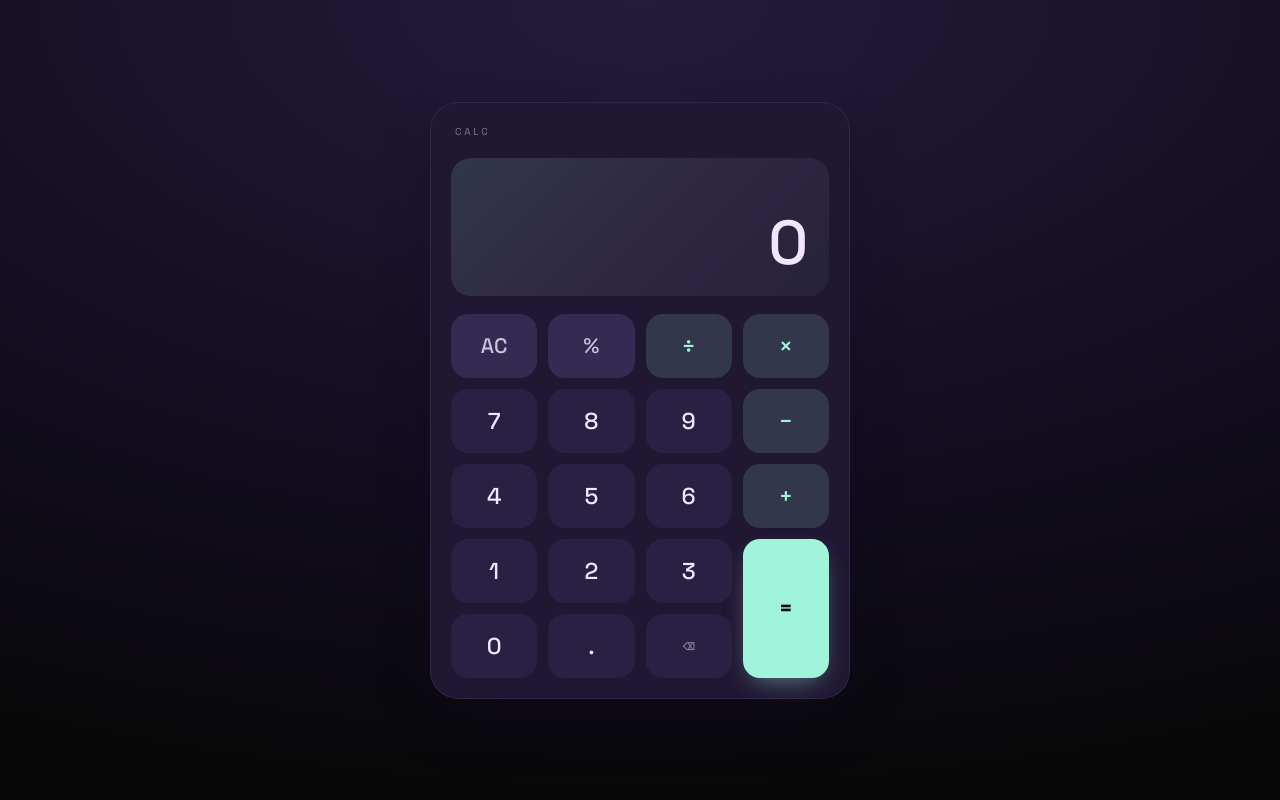
Test: digit entry, backspace, and clear › AC resets back to 0
Click the button "5" at (591, 496), box [548,464,635,528]
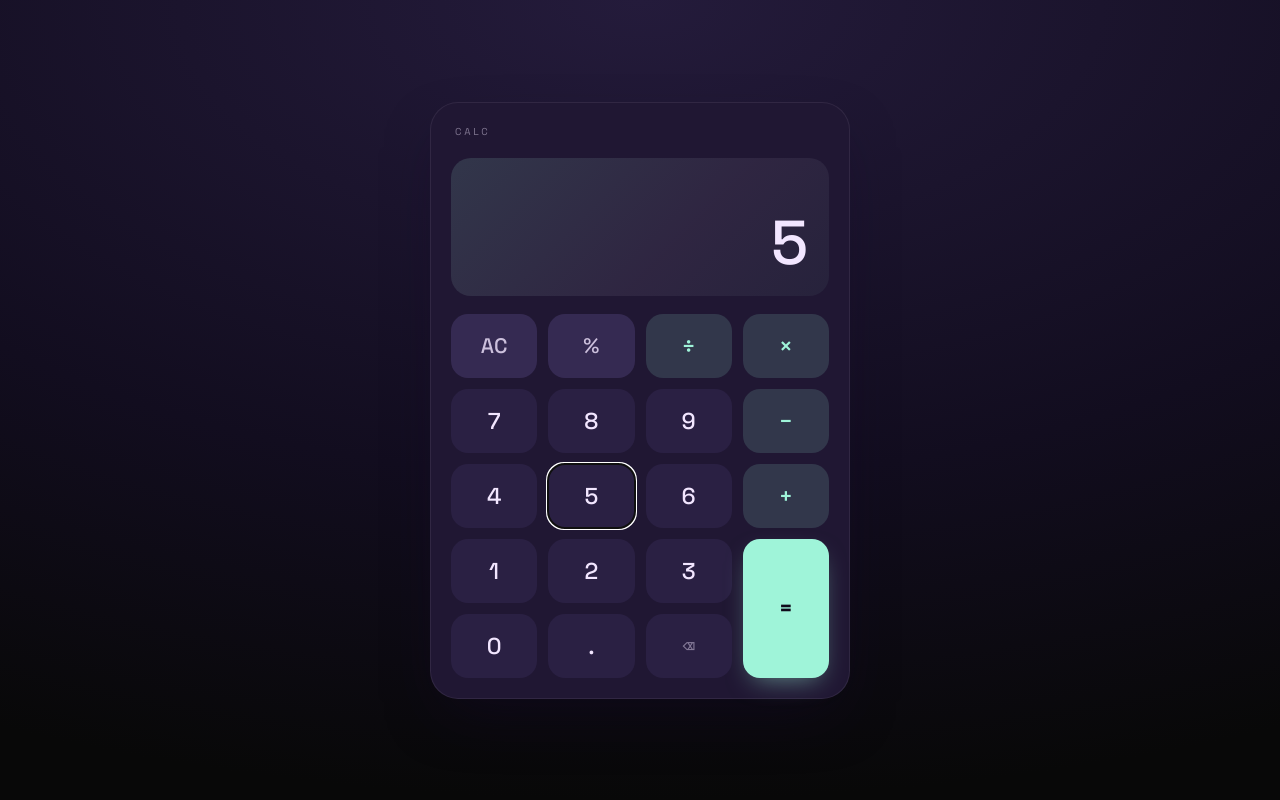
Click the button "AC" at (494, 346), box [451,314,537,378]
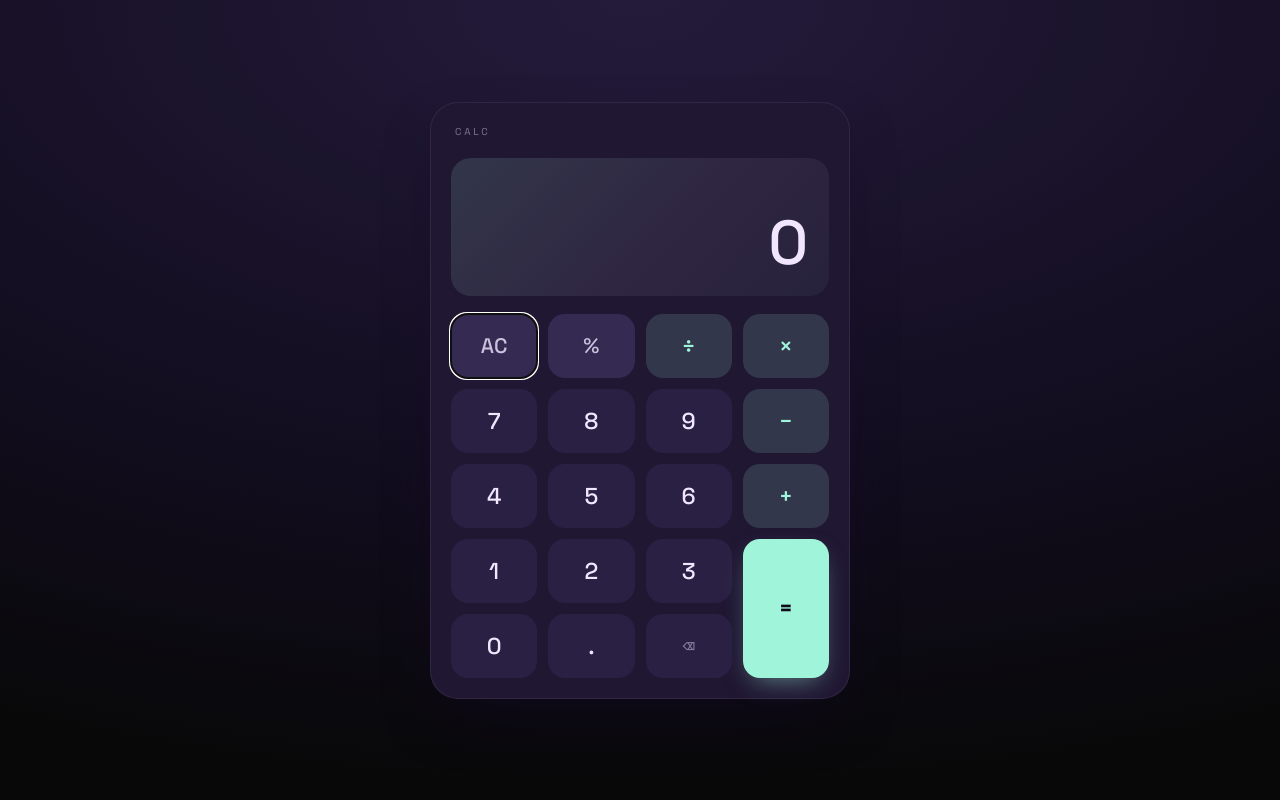
expect the text with test id "result" reads "0": met, box [768,202,807,282]
